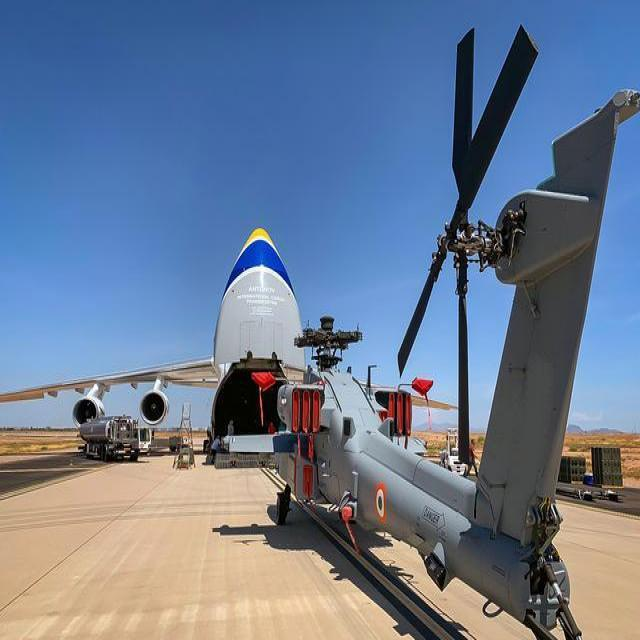MIL_HELO: (251, 18, 640, 637)
